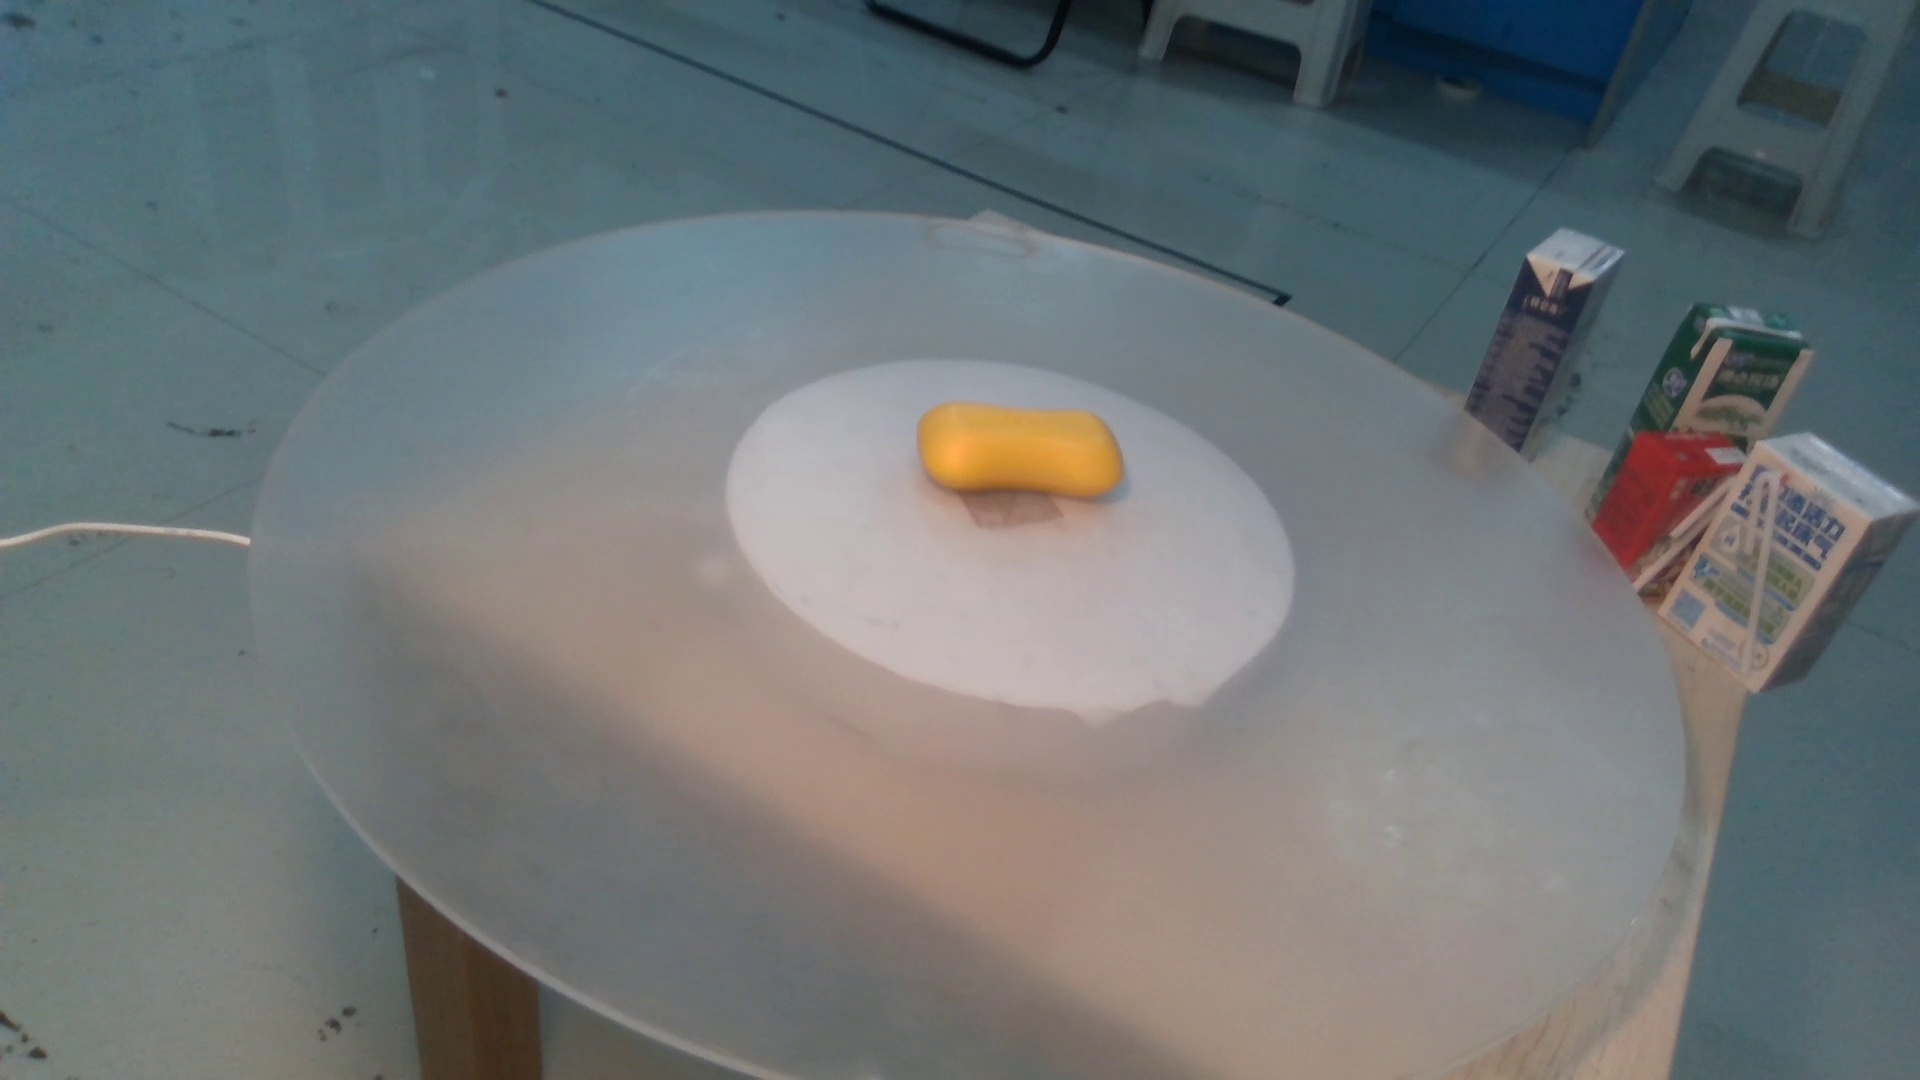CA003_1: (899, 402, 1149, 545)
